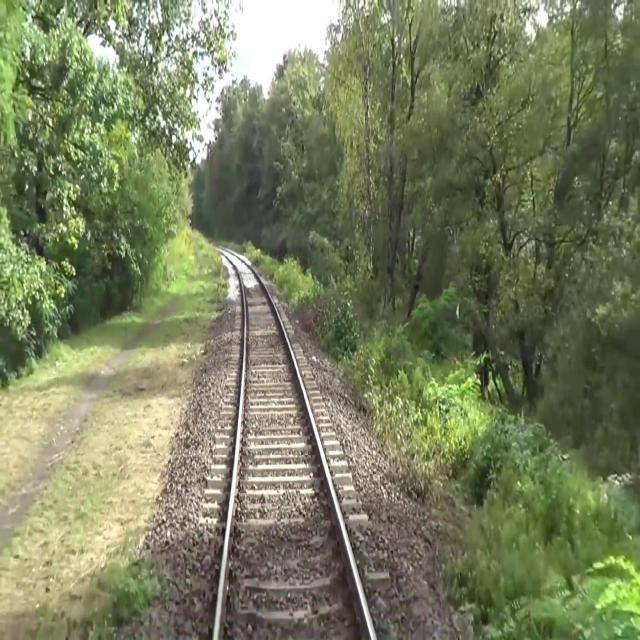rail-track: (218, 248, 371, 639)
